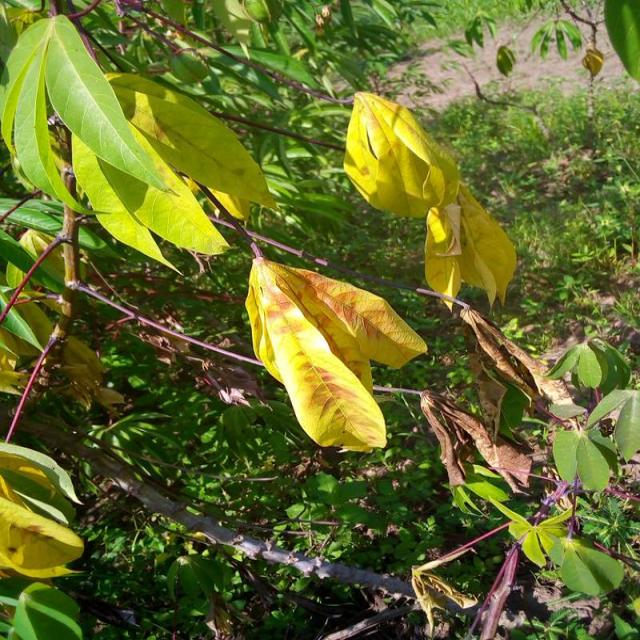cassava leaf: (1, 13, 231, 274), (342, 88, 516, 312), (244, 255, 427, 452)
